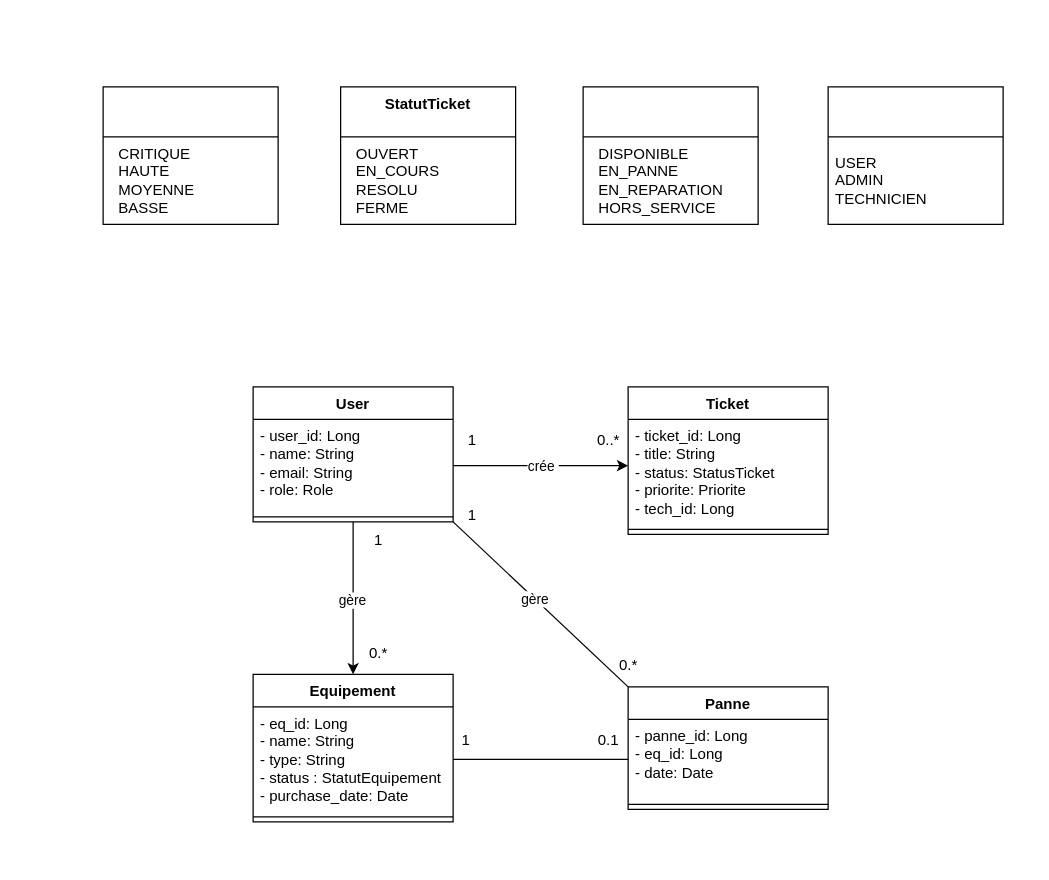
This 1049x880 diagram has some shape labels left out. Here are the shapes that lost their labels. From the top down, the box of each, then its label:
(102, 86, 278, 224): Priorite
(582, 86, 758, 224): StatutEquipement
(827, 86, 1003, 224): Role
